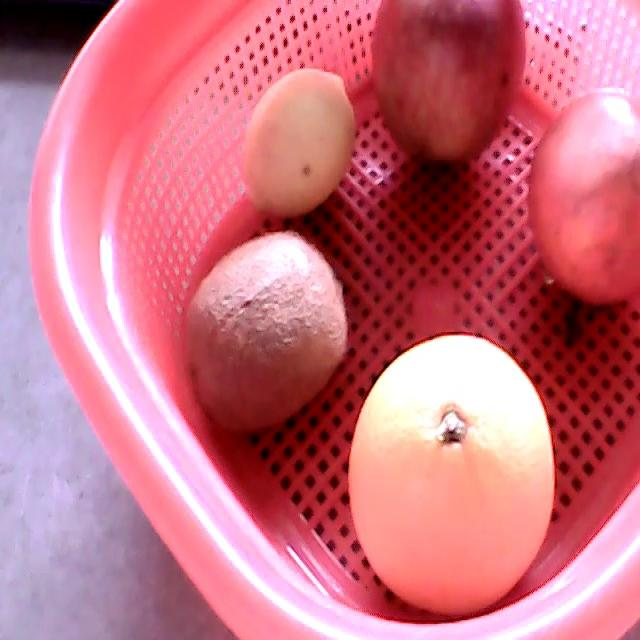apple: (371, 0, 526, 166)
kiwi: (185, 235, 348, 430)
lemon: (238, 68, 356, 216)
orange: (349, 332, 555, 616)
pomegranate: (528, 88, 639, 307)
